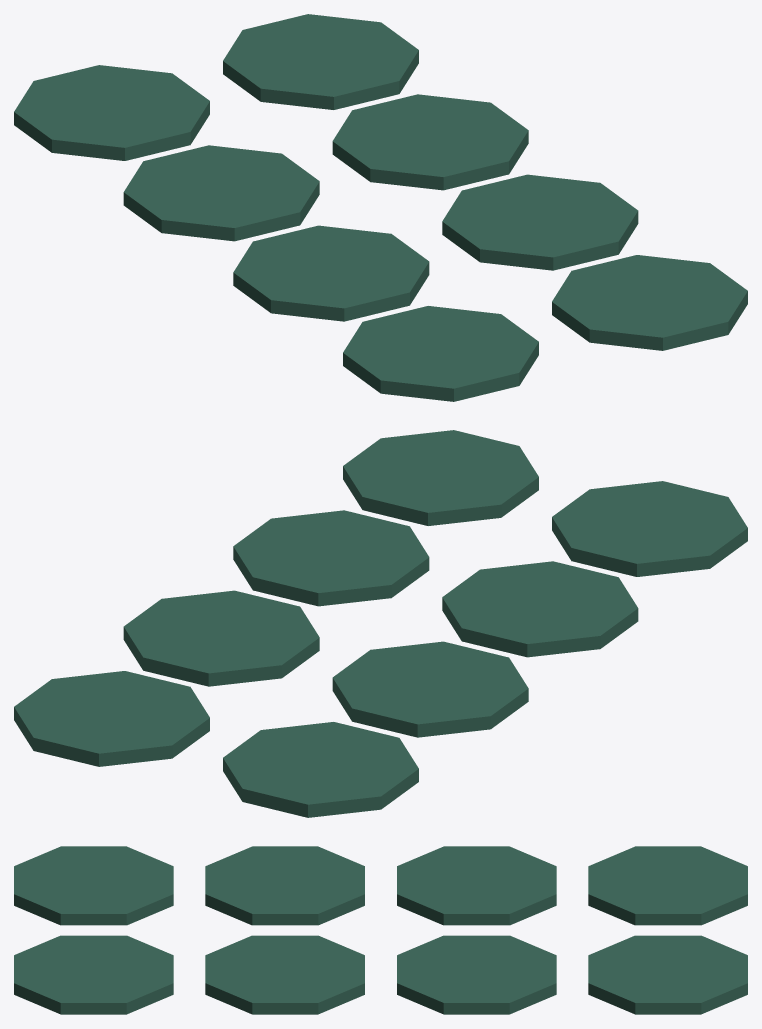
File: vls8_hatches.obj
3 views of the same model, one above another, from view 1: azimuth 30°, elevation 25°; view 2: azimuth 150°, elevation 25°; view 3: azimuth 270°, elevation 25° (orthographic). The views are drawn at different scales.
Parts seen in each view (by area): view 1: vls8_hatches; view 2: vls8_hatches; view 3: vls8_hatches.
Boxes of the visible parts, box(x1,y1,x2,y2) form: vls8_hatches: box(14, 14, 747, 401); vls8_hatches: box(14, 430, 747, 817); vls8_hatches: box(14, 846, 747, 1014).
Size of the model in its own units: 2.32 by 0.08 by 4.6.
